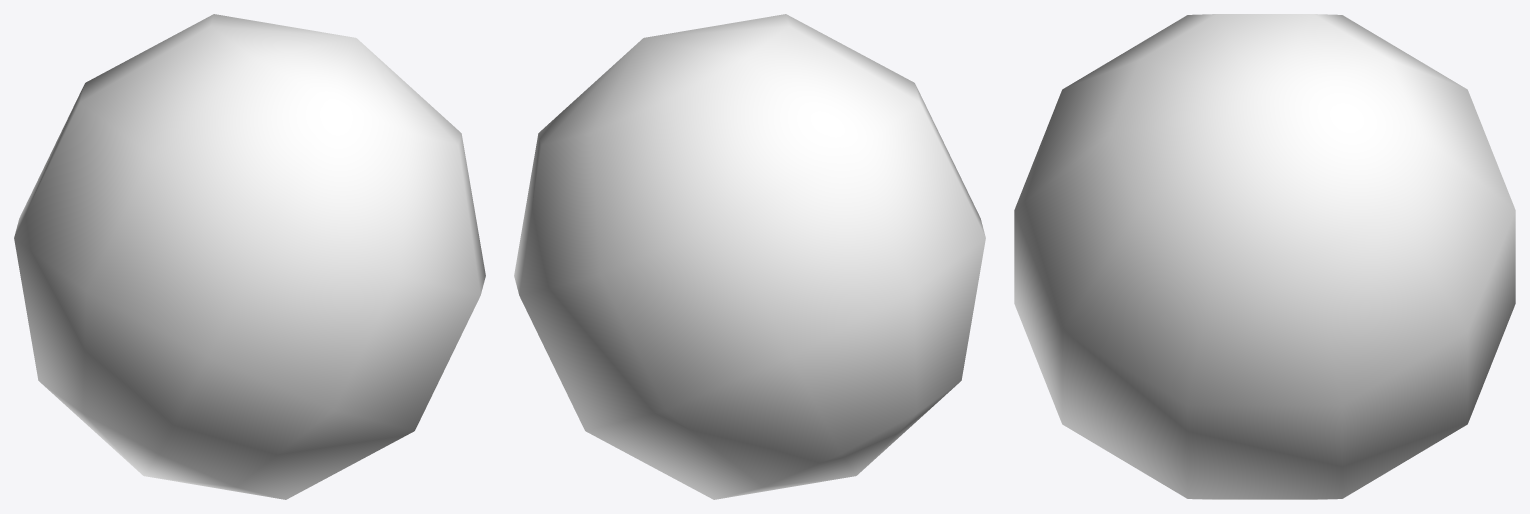
Rendered from r_hand.FBX.
3 renders of one model, left to right at view 1: azimuth 30°, elevation 25°; view 2: azimuth 150°, elevation 25°; view 3: azimuth 270°, elevation 25°, orthographic. The views are drawn at different scales.
Visible parts, largest first — view 1: l_hand001; view 2: l_hand001; view 3: l_hand001.
Part boxes in pixels (bbox=[...]): l_hand001: bbox=[14, 14, 485, 499]; l_hand001: bbox=[514, 14, 985, 499]; l_hand001: bbox=[1014, 14, 1515, 499].
Size of the model in its own units: 81.64 by 82.79 by 85.32.
1 material, 1 textured.
